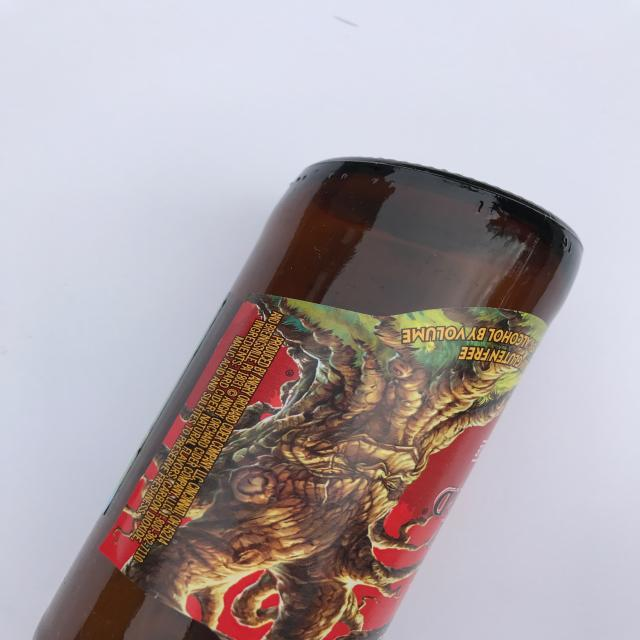glass: (38, 156, 584, 640)
